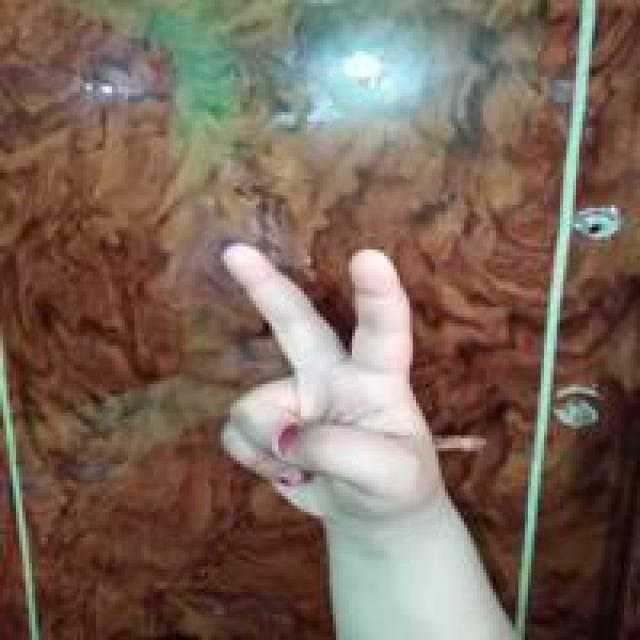V: (212, 238, 438, 546)
